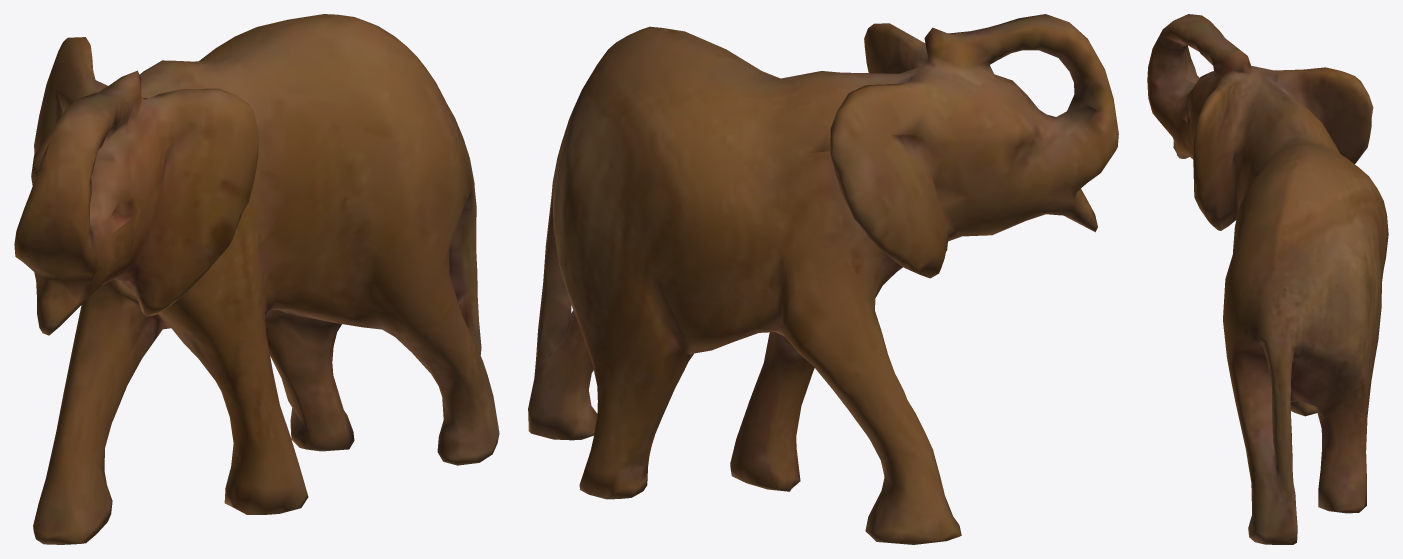
The model's file is elephant.glb.
The picture shows the model from 3 angles, left to right: view 1: azimuth 30°, elevation 25°; view 2: azimuth 150°, elevation 25°; view 3: azimuth 270°, elevation 25°; orthographic projection. The views are drawn at different scales.
Visible parts, largest first — view 1: carved_wooden_elephant; view 2: carved_wooden_elephant; view 3: carved_wooden_elephant.
Boxes of the visible parts, box(x1,y1,x2,y2) form: carved_wooden_elephant: box(14, 14, 499, 544); carved_wooden_elephant: box(528, 14, 1118, 544); carved_wooden_elephant: box(1147, 14, 1388, 544).
Size of the model in its own units: 0.1092 by 0.0961 by 0.0576.
Materials: 1 (1 with a texture image).
